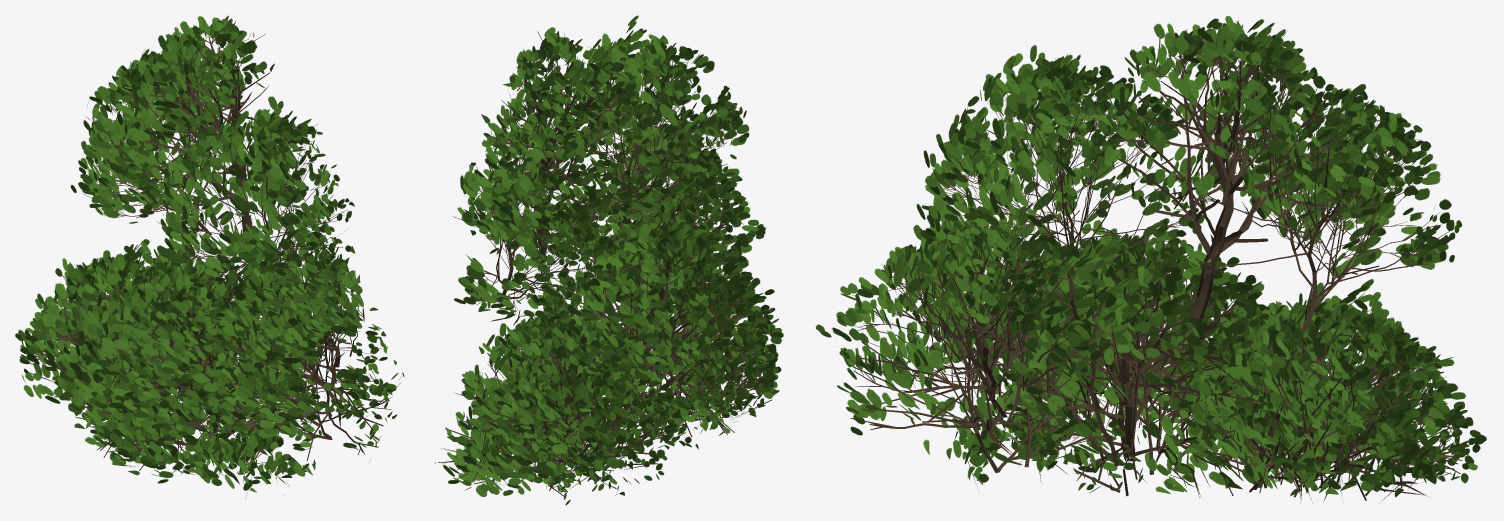
The picture shows the model from 3 angles, left to right: view 1: azimuth 30°, elevation 25°; view 2: azimuth 150°, elevation 25°; view 3: azimuth 270°, elevation 25°; orthographic projection. The views are drawn at different scales.
Visible parts, largest first — view 1: oak 01.001_trunk_Mat.001_0.296; view 2: oak 01.001_trunk_Mat.001_0.296; view 3: oak 01.001_trunk_Mat.001_0.296.
Part boxes in pixels (x1,y1,x2,y2): oak 01.001_trunk_Mat.001_0.296: (15,15,404,499); oak 01.001_trunk_Mat.001_0.296: (435,15,783,505); oak 01.001_trunk_Mat.001_0.296: (816,16,1486,503).
Size of the model in its own units: 2.44 by 4.25 by 5.31.
2 materials, 1 textured.
